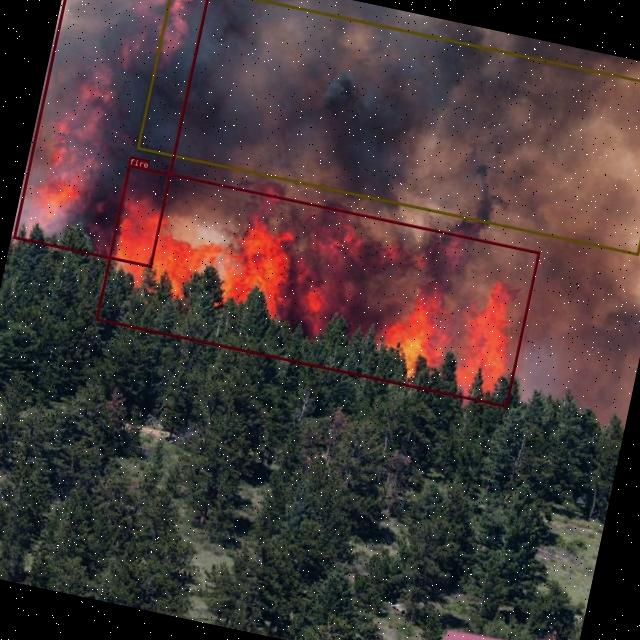fire: (94, 163, 540, 407), (12, 0, 214, 266)
smoke: (135, 0, 640, 255)
